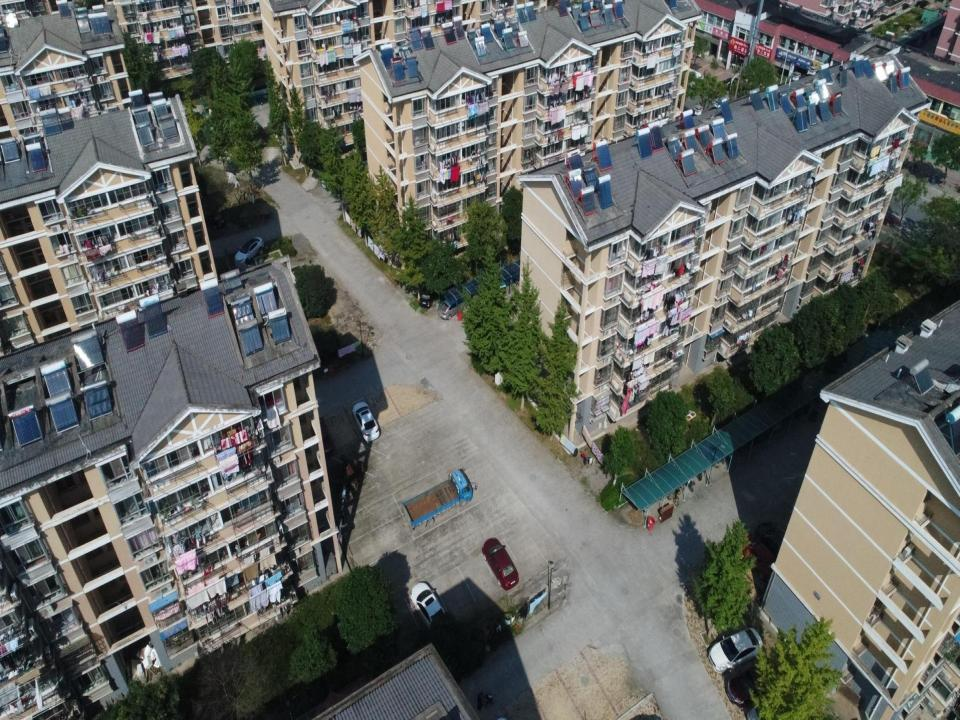car: (709, 626, 764, 674), (727, 662, 782, 708), (410, 581, 451, 639), (739, 532, 778, 583), (482, 538, 519, 591), (755, 521, 798, 564), (351, 402, 380, 442), (311, 416, 334, 459), (234, 236, 265, 266), (438, 296, 469, 320), (418, 281, 437, 309), (878, 209, 899, 227), (719, 77, 745, 91)
truck: (402, 467, 478, 530)
